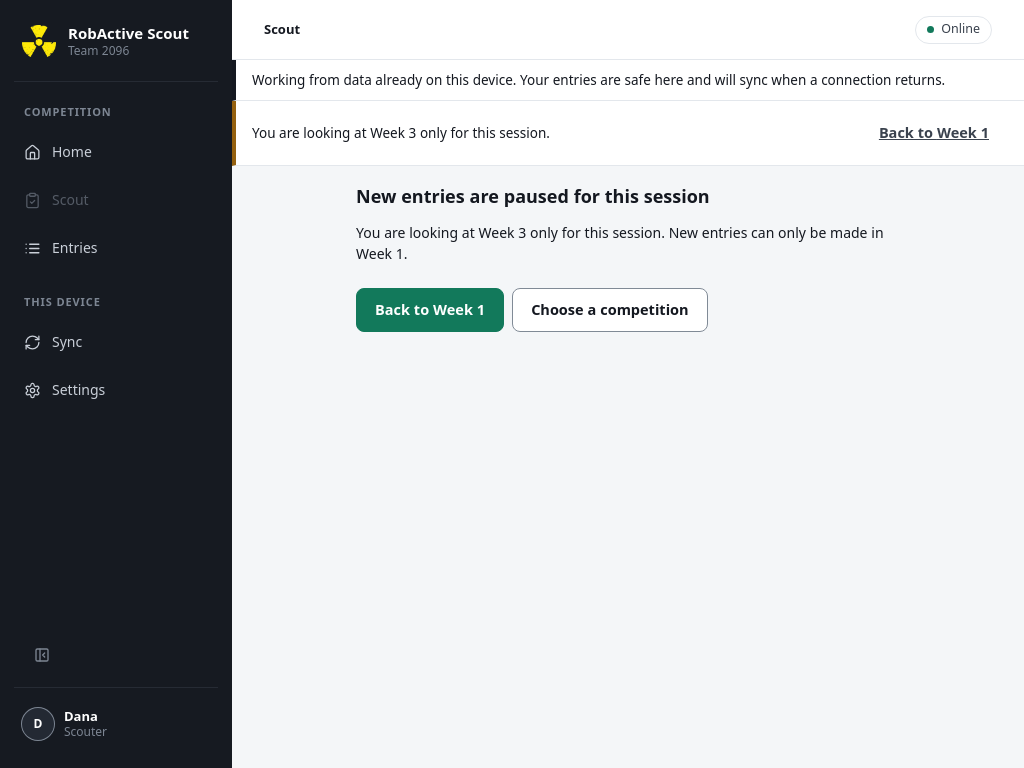
Scenario: no new entry while a session override is in effect (SPEC-FINAL 6.3, task 1.22) › refuses the Scout picker, and gives it back when the override is cleared
This screenshot has width=1024, height=768.
Expected: the element "New entries are paused for this session" shows "You are looking at Week 3 only for this session. New entries can only be made in Week 1.", [340,166,916,348]
Expected: the field labelled "match number" is not shown
Click the button "Back to Week 1" next to "Choose a competition" at (430, 310), box [356,288,504,332]
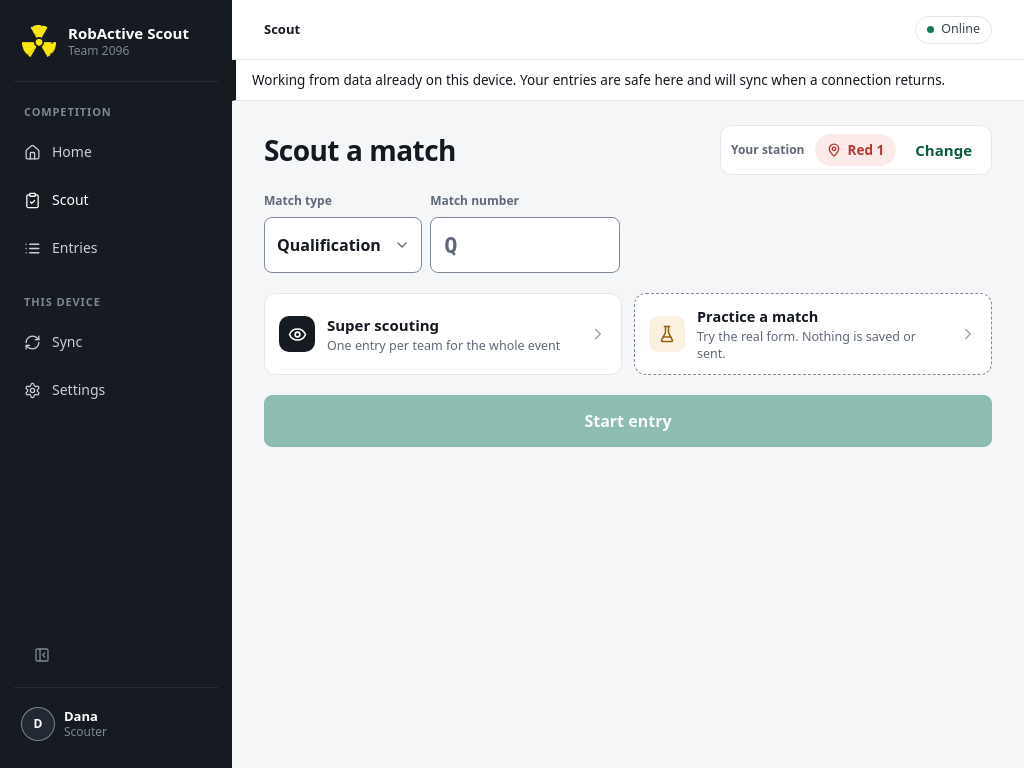
Now the number field labelled "Match number" is shown, box [430,217,620,273]
Now the heading "New entries are paused for this session" is gone
